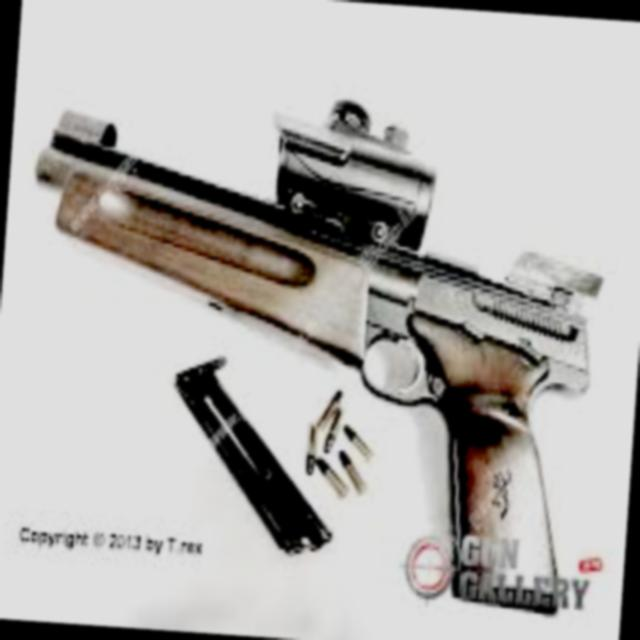semi automatic: (0, 55, 638, 629)
